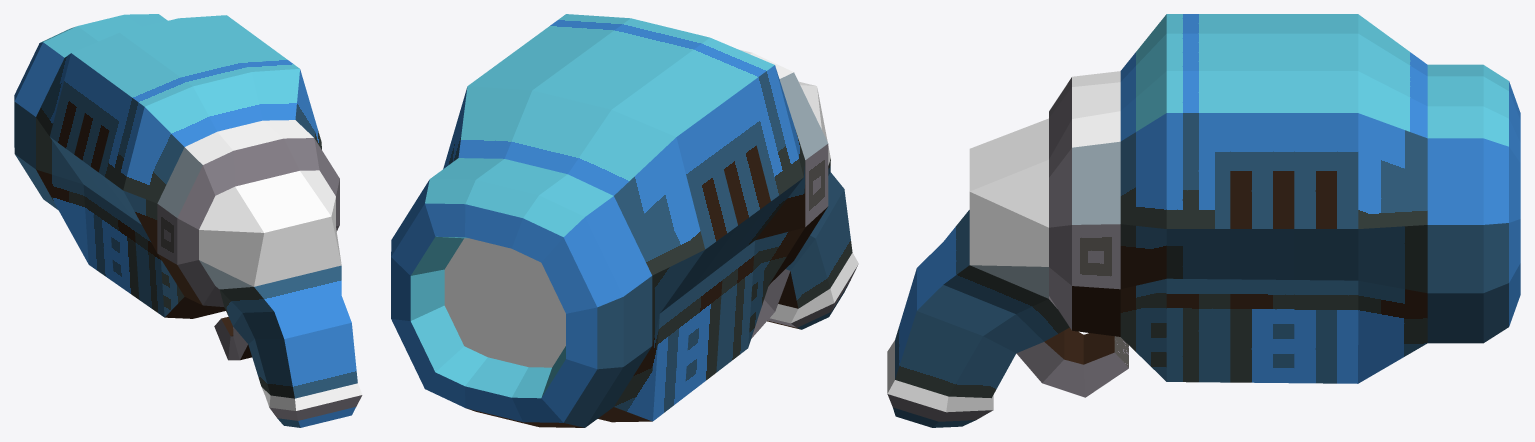
File: gun.glb
3 views of the same model, side by side, from view 1: azimuth 30°, elevation 25°; view 2: azimuth 150°, elevation 25°; view 3: azimuth 270°, elevation 25° (orthographic). The views are drawn at different scales.
Visible parts, largest first — view 1: Cube.024_Cube.025; view 2: Cube.024_Cube.025; view 3: Cube.024_Cube.025.
Boxes of the visible parts, box(x1,y1,x2,y2) form: Cube.024_Cube.025: box(14, 14, 362, 427); Cube.024_Cube.025: box(391, 14, 858, 427); Cube.024_Cube.025: box(887, 14, 1520, 427).
Size of the model in its own units: 0.2531 by 0.338 by 0.5358.
1 material, 1 textured.
